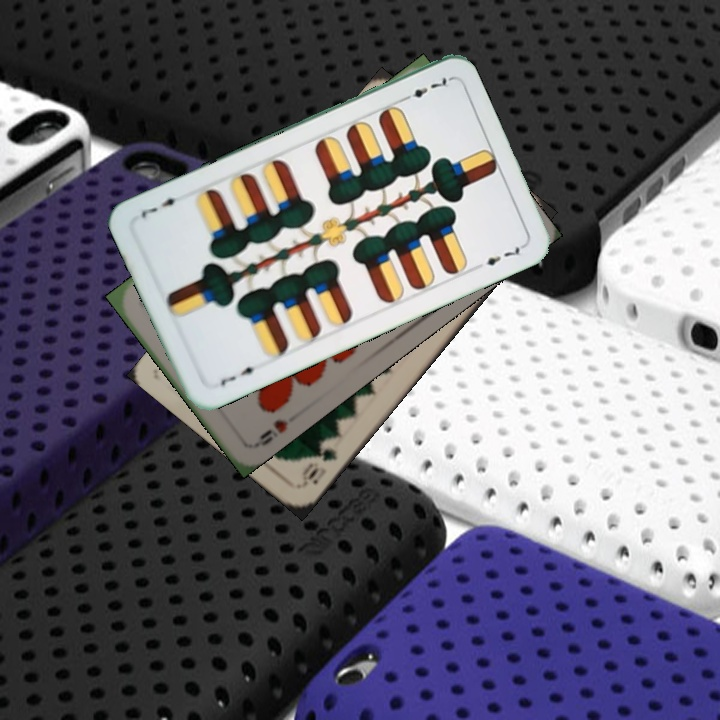E7: (396, 73, 452, 105), (216, 362, 264, 388)
G10: (297, 444, 340, 489)
H9: (250, 415, 291, 450)
